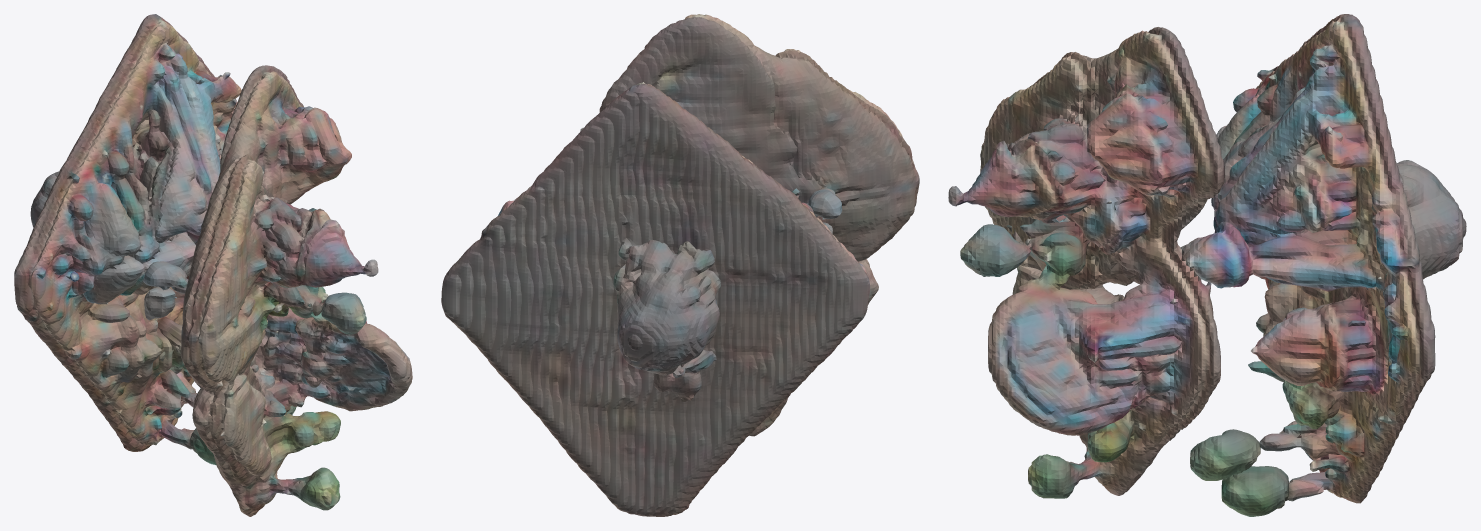
The picture shows the model from 3 angles, left to right: view 1: azimuth 30°, elevation 25°; view 2: azimuth 150°, elevation 25°; view 3: azimuth 270°, elevation 25°; orthographic projection. The views are drawn at different scales.
Parts seen in each view (by area): view 1: world; view 2: world; view 3: world.
Boxes of the visible parts, x1=… form: world: x1=14, y1=14, x2=412, y2=516; world: x1=441, y1=14, x2=919, y2=516; world: x1=948, y1=14, x2=1466, y2=516.
Size of the model in its own units: 0.7783 by 0.9222 by 0.8923.
